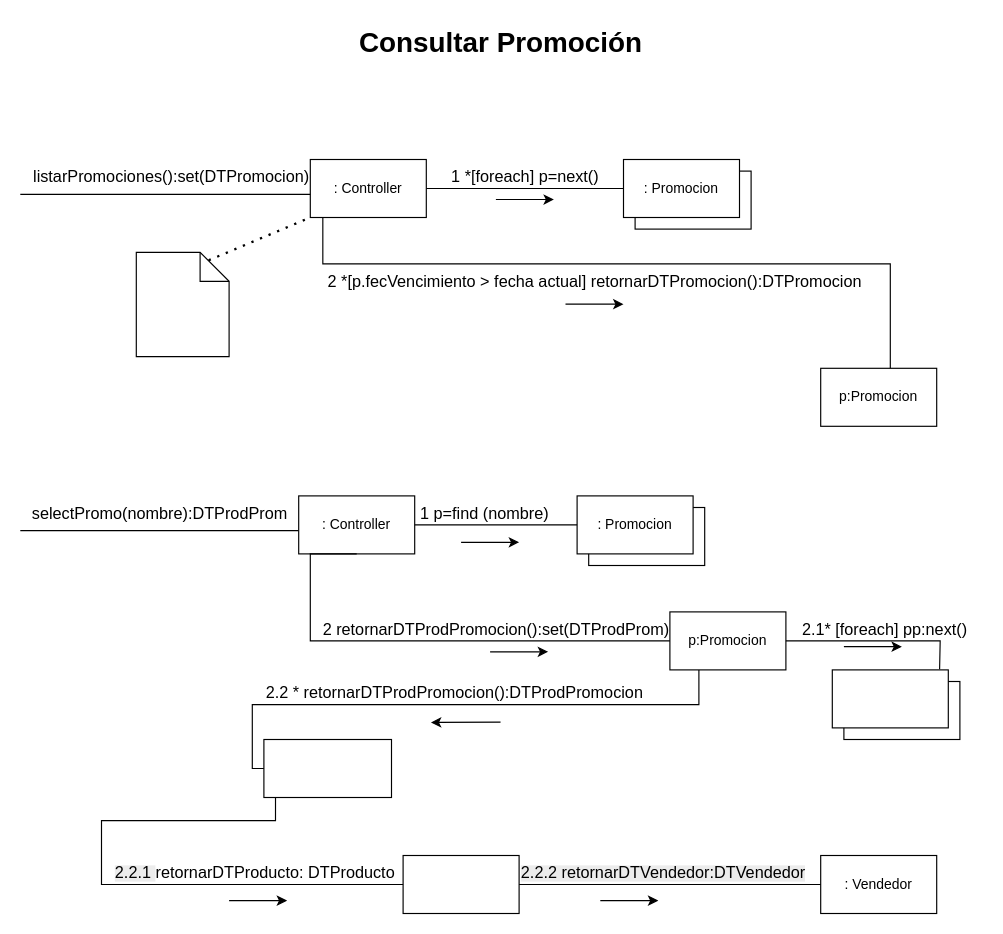
Some shapes in this 1003 by 934 pixel diagram are drawn without their labels. Each missing label, with the box of its shape:
: ProdPromocion: (831, 669, 948, 728)
:Producto: (402, 854, 519, 913)
pp: ProdPromocion: (263, 738, 392, 798)
Retorna solo las promociones vigentes: (135, 251, 229, 357)
